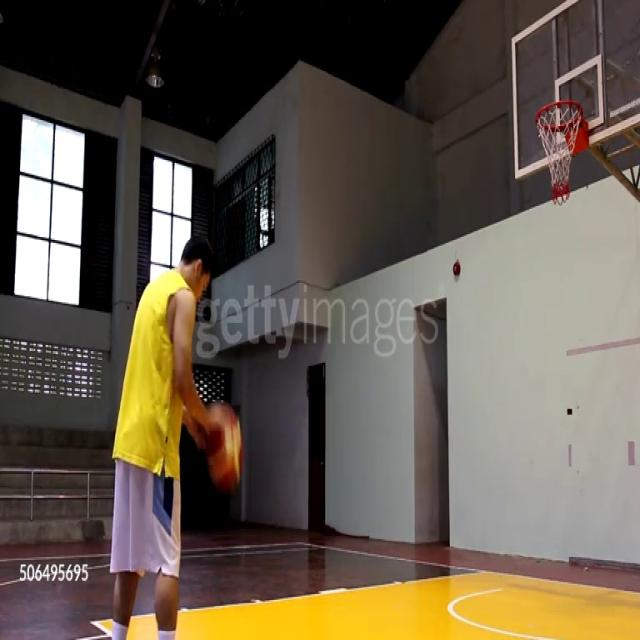ball: (205, 398, 243, 494)
